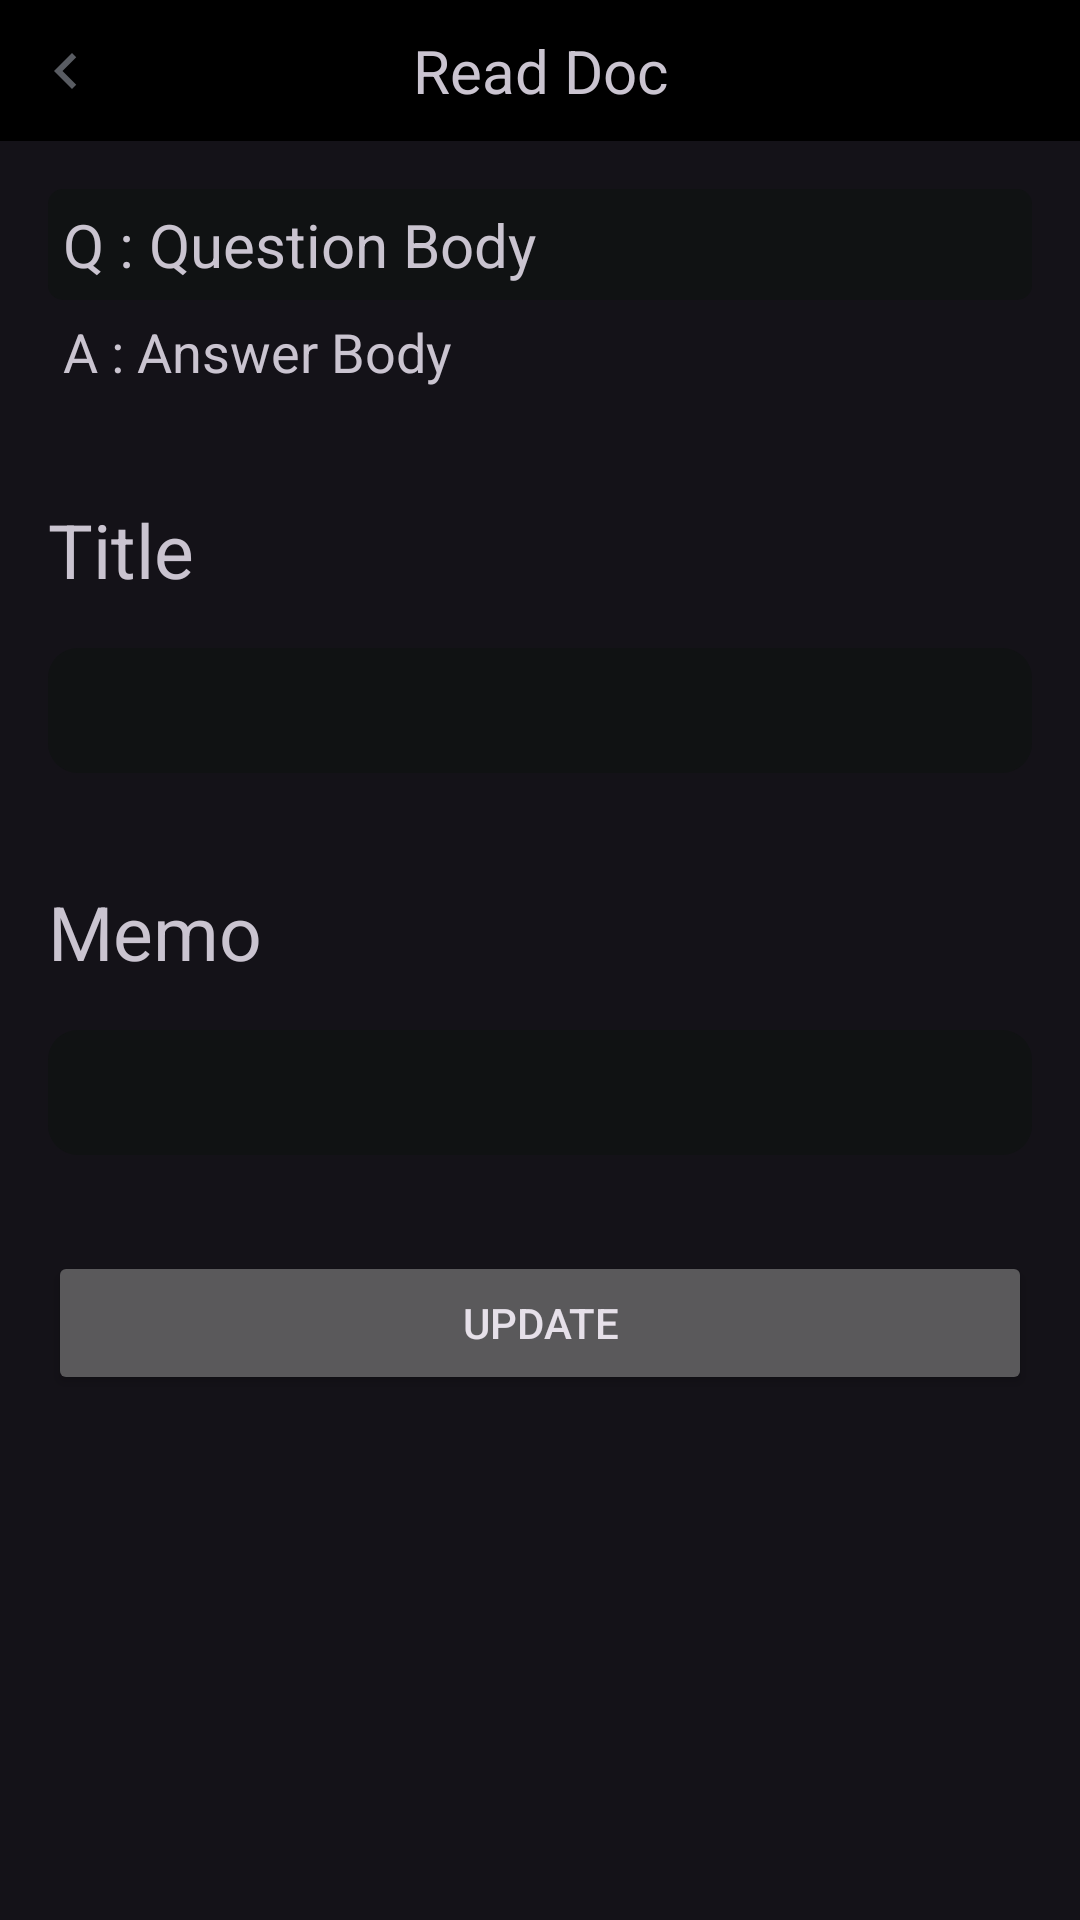

Locate icon controls on the screen. Image size 1080 × 1920, boxes as rect(x1, y1, x2, y2).
chevron left: rect(54, 53, 76, 89)
